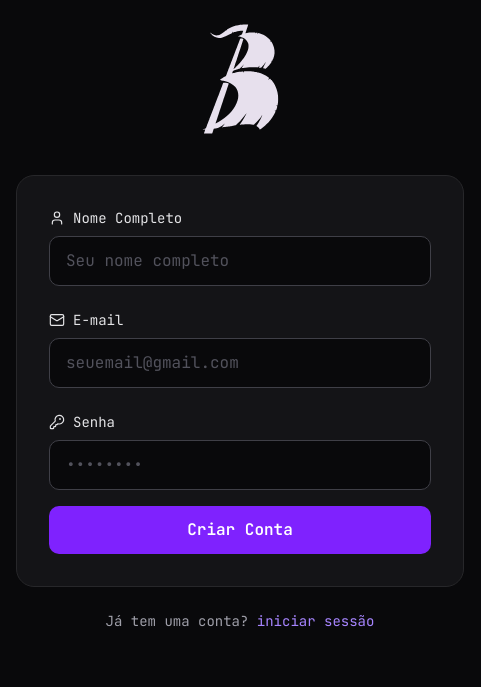
Test: Fluxos de autenticação › mostra alerta quando o cadastro envia e-mail inválido
Step 1. Type "João" into the field with placeholder "Seu nome completo" → (240, 261), box [49,236,431,286]
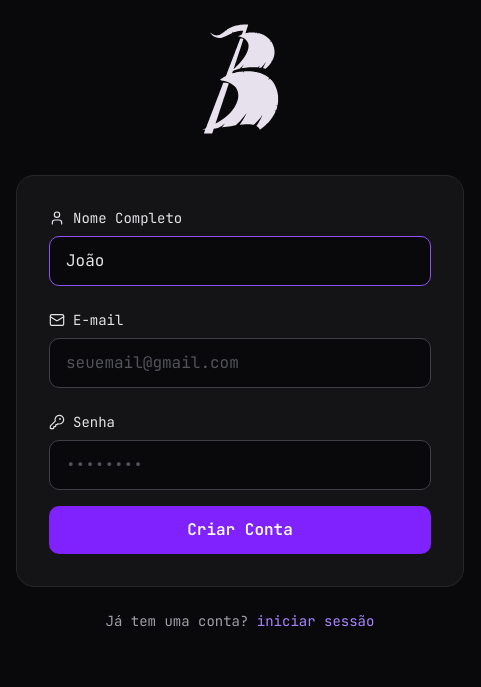
Step 2. Type "email-invalido" into the field with placeholder "seuemail@gmail.com" → (240, 363), box [49,338,431,388]
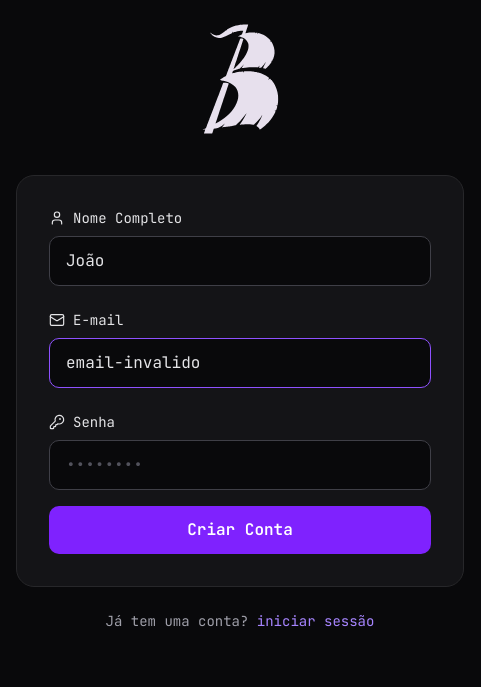
Step 3. Type "123456" into the password field with placeholder "••••••••" → (240, 465), box [49,440,431,490]
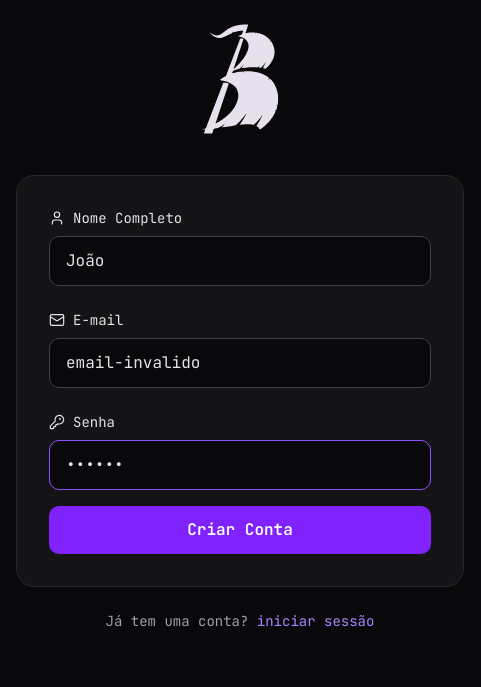
Step 4. Click the button "Criar Conta" → (240, 530), box [49,506,431,554]
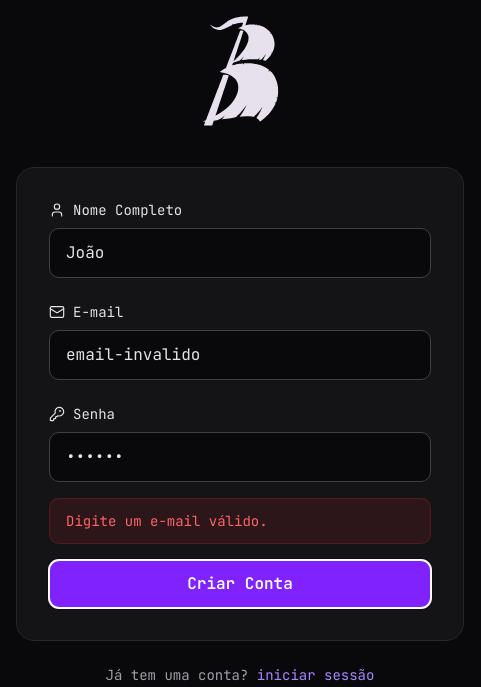
Expected: the text "Digite um e-mail válido." is shown, [66,512,268,530]
